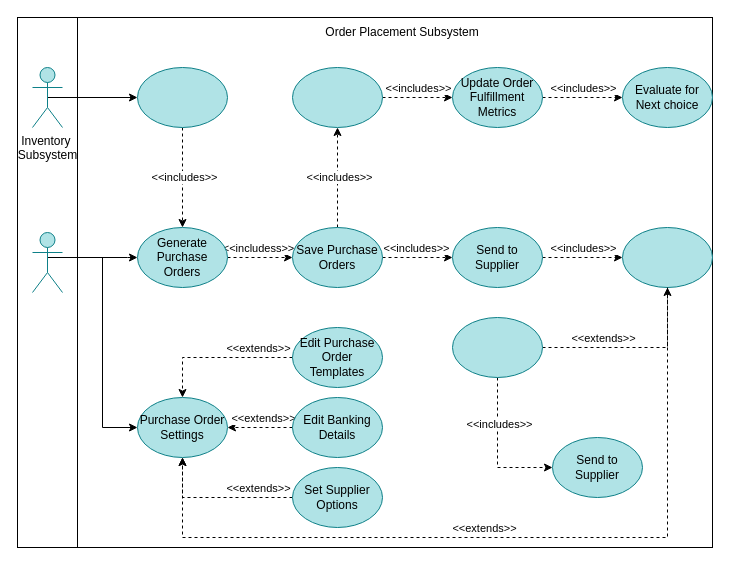
The diagram is 730 pixels wide and 565 high, and some of its shapes have lost their labels. The centre of each missing label's shape, as x and y in pixels:
"Admin/ Inventory Controller" belongs at point 47,262.
"Confirm Details" belongs at point 667,257.
"Notify Stock low" belongs at point 182,97.
"Track Purchase Order" belongs at point 337,97.
"Update Purchase Orders" belongs at point 497,347.
